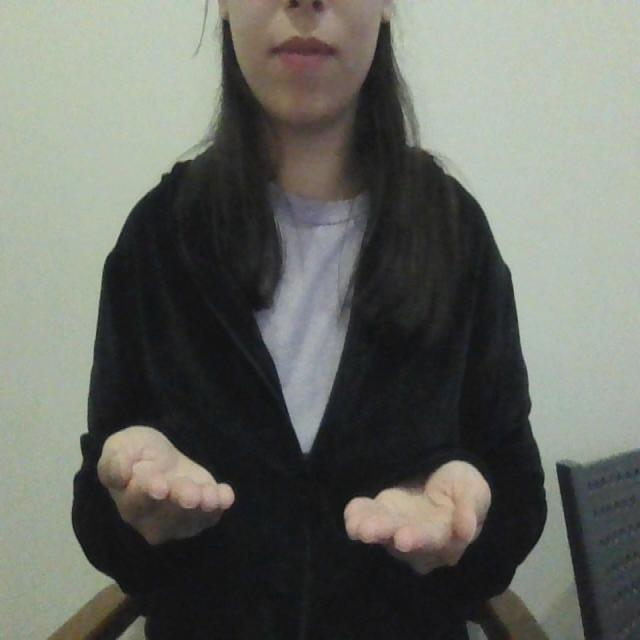Evet: (91, 423, 497, 577)
